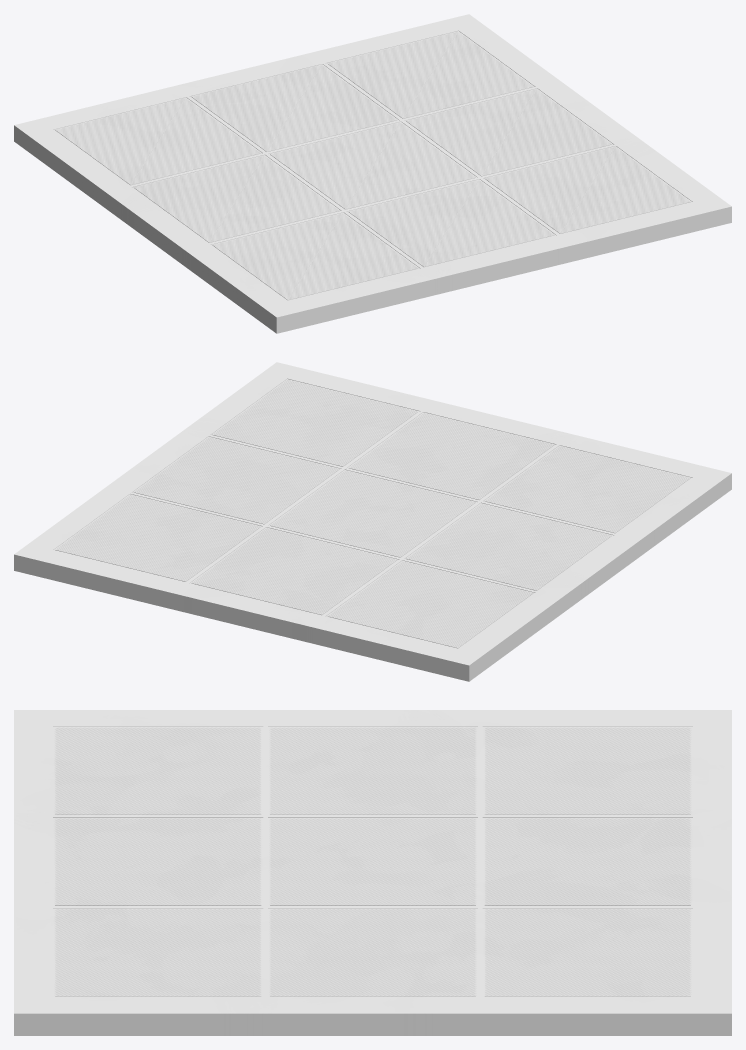
File: FloorTest.fbx
The picture shows the model from 3 angles, top to bottom: view 1: azimuth 30°, elevation 25°; view 2: azimuth 150°, elevation 25°; view 3: azimuth 270°, elevation 25°; orthographic projection. The views are drawn at different scales.
Parts seen in each view (by area): view 1: Plane; view 2: Plane; view 3: Plane.
Boxes of the visible parts, x1=… form: Plane: x1=14, y1=14, x2=731, y2=333; Plane: x1=14, y1=362, x2=731, y2=681; Plane: x1=14, y1=710, x2=731, y2=1035.
Bounding box in the file's own units: 800 × 27.41 × 800.
